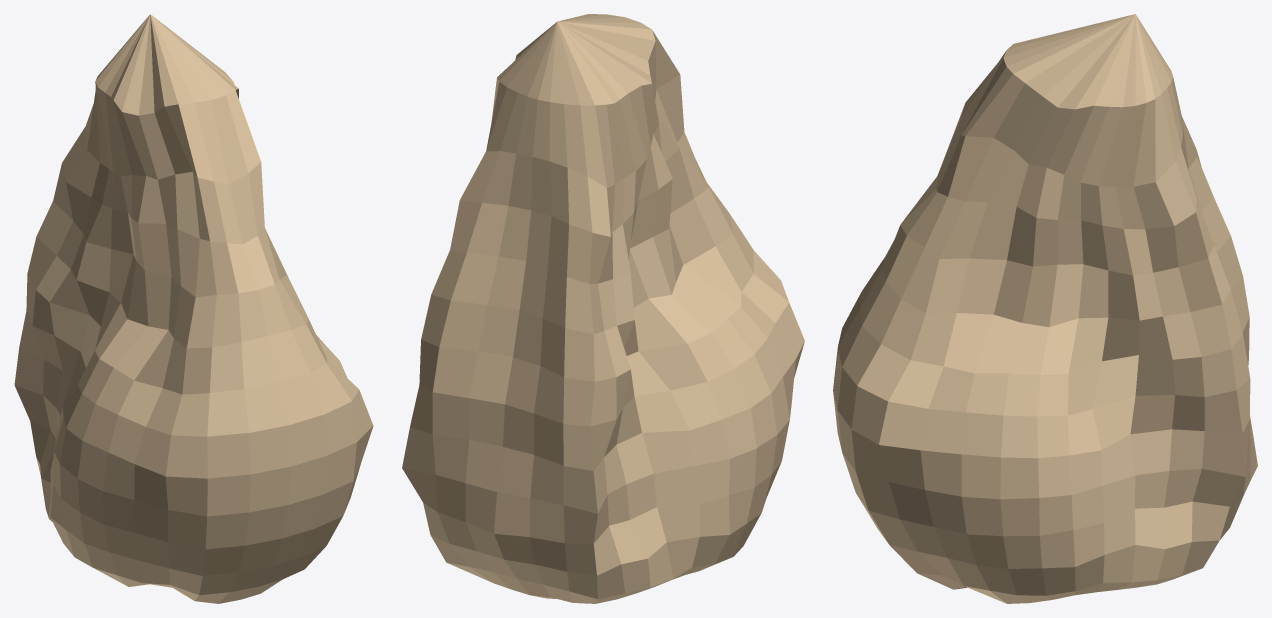
File: nose.fbx
The picture shows the model from 3 angles, left to right: view 1: azimuth 30°, elevation 25°; view 2: azimuth 150°, elevation 25°; view 3: azimuth 270°, elevation 25°; orthographic projection. The views are drawn at different scales.
Parts seen in each view (by area): view 1: Sphere; view 2: Sphere; view 3: Sphere.
Boxes of the visible parts, x1=… form: Sphere: x1=14, y1=14, x2=373, y2=603; Sphere: x1=402, y1=14, x2=804, y2=603; Sphere: x1=833, y1=14, x2=1257, y2=603.
Bounding box in the file's own units: 138 × 255 × 175.
